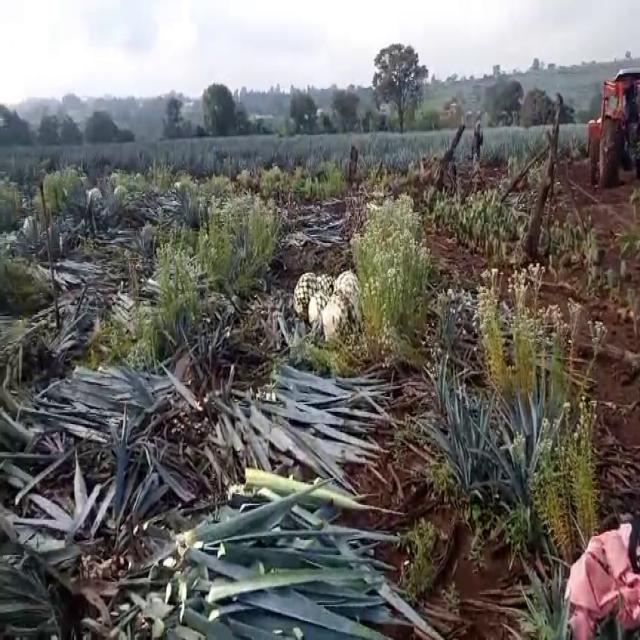agave: (322, 292, 354, 350), (290, 271, 320, 315), (334, 265, 358, 316), (307, 288, 332, 326), (315, 262, 338, 300)
